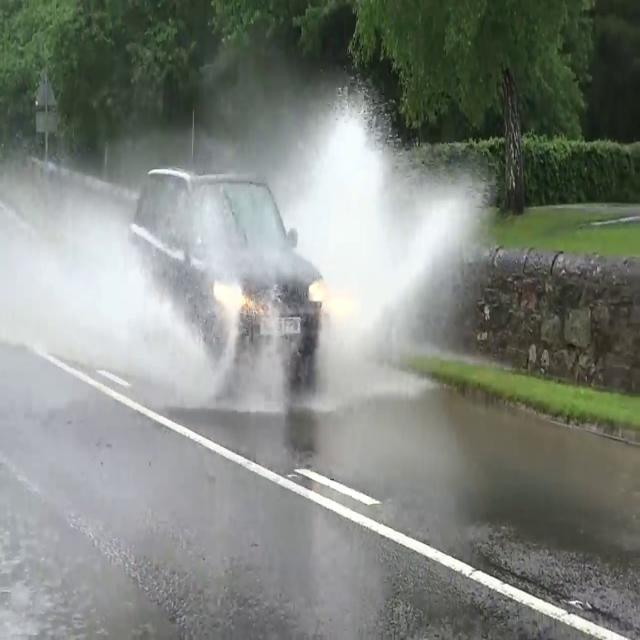license-plate-annotation: (256, 316, 300, 342)
